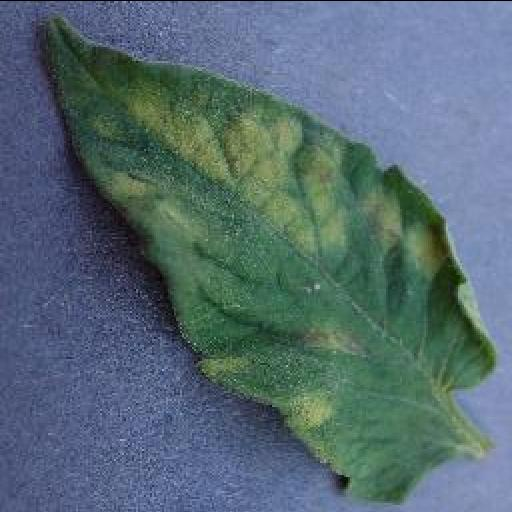disease_tomato: (35, 10, 497, 504)
